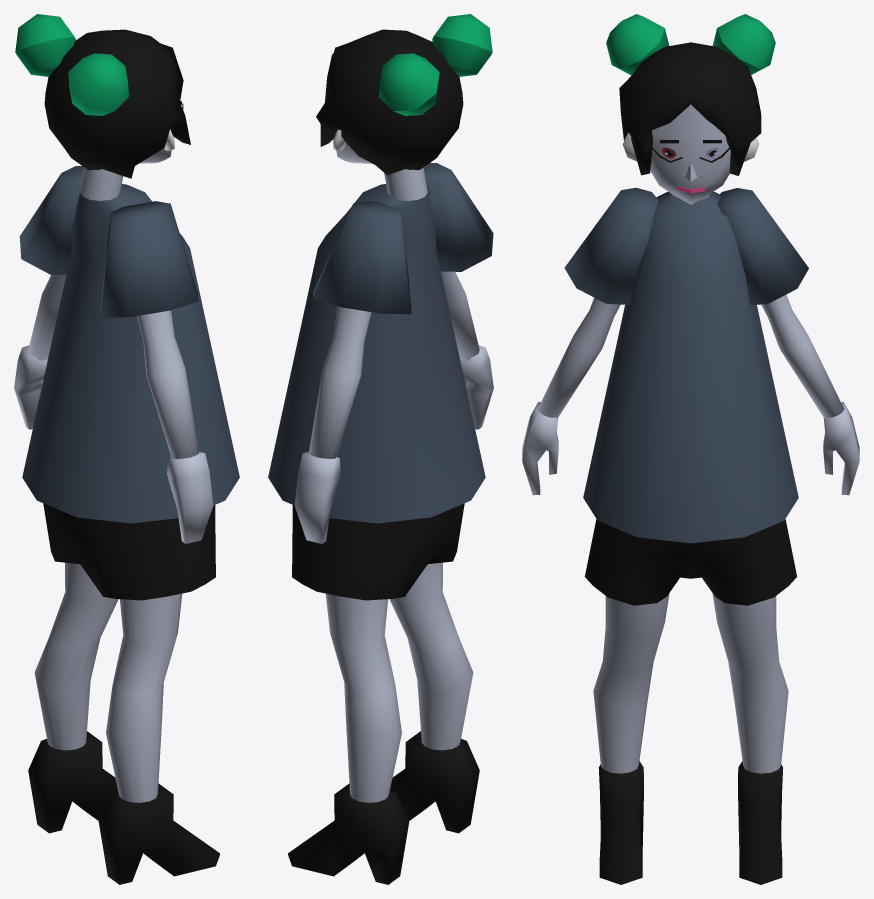
File: CelebALister.fbx
3 renders of one model, left to right at view 1: azimuth 30°, elevation 25°; view 2: azimuth 150°, elevation 25°; view 3: azimuth 270°, elevation 25°, orthographic.
Parts seen in each view (by area): view 1: Shirt, Body, ShoulderSleeves, Hair, Shoes, Pants, Arm, Hands, Buns, Buns.001; view 2: Shirt, Body, ShoulderSleeves, Hair, Shoes, Pants, Arm, Hands, Buns, Buns.001; view 3: Shirt, Body, Pants, ShoulderSleeves, Hair, Shoes, Arm, Head, Buns, Hands, Buns.001.
Boxes of the visible parts, left/top/right/bottom form: Shirt: left=22, top=184, right=239, bottom=523; Body: left=34, top=167, right=182, bottom=802; ShoulderSleeves: left=19, top=165, right=198, bottom=317; Hair: left=44, top=29, right=190, bottom=178; Shoes: left=28, top=731, right=219, bottom=884; Pants: left=43, top=503, right=215, bottom=600; Arm: left=28, top=275, right=198, bottom=458; Hands: left=14, top=345, right=213, bottom=543; Buns: left=15, top=14, right=128, bottom=110; Buns.001: left=15, top=36, right=114, bottom=115; Shirt: left=268, top=184, right=485, bottom=523; Body: left=325, top=167, right=473, bottom=802; ShoulderSleeves: left=313, top=162, right=493, bottom=314; Hair: left=316, top=29, right=463, bottom=175; Shoes: left=288, top=731, right=479, bottom=884; Pants: left=292, top=503, right=464, bottom=600; Arm: left=309, top=271, right=479, bottom=458; Hands: left=294, top=345, right=493, bottom=543; Buns: left=379, top=14, right=492, bottom=110; Buns.001: left=393, top=36, right=492, bottom=115; Shirt: left=583, top=191, right=798, bottom=543; Body: left=593, top=194, right=788, bottom=773; Pants: left=585, top=519, right=796, bottom=605; ShoulderSleeves: left=564, top=187, right=808, bottom=304; Hair: left=619, top=42, right=761, bottom=175; Shoes: left=599, top=761, right=782, bottom=884; Arm: left=538, top=234, right=843, bottom=418; Head: left=650, top=104, right=730, bottom=204; Buns: left=606, top=14, right=775, bottom=68; Hands: left=522, top=402, right=859, bottom=495; Buns.001: left=613, top=28, right=768, bottom=75.
Bounding box in the file's own units: 171 × 711 × 267.
